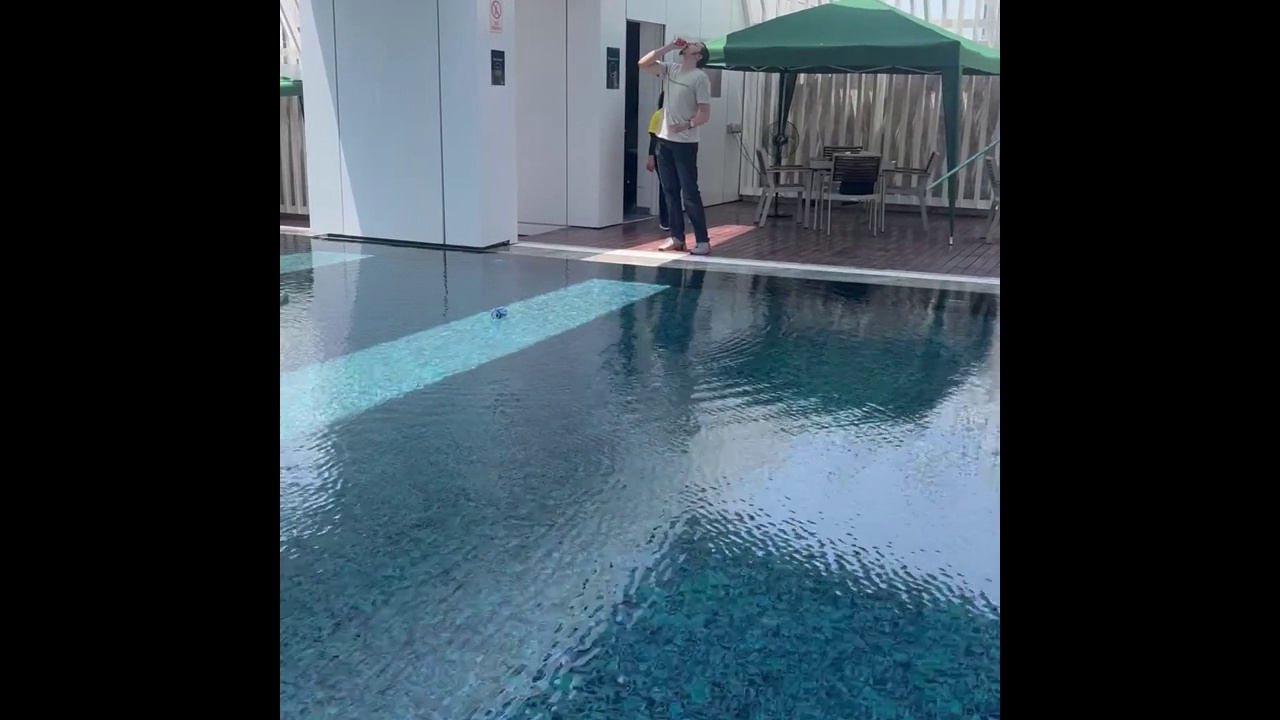debris: (485, 306, 509, 321), (667, 35, 687, 50), (280, 289, 292, 304)
